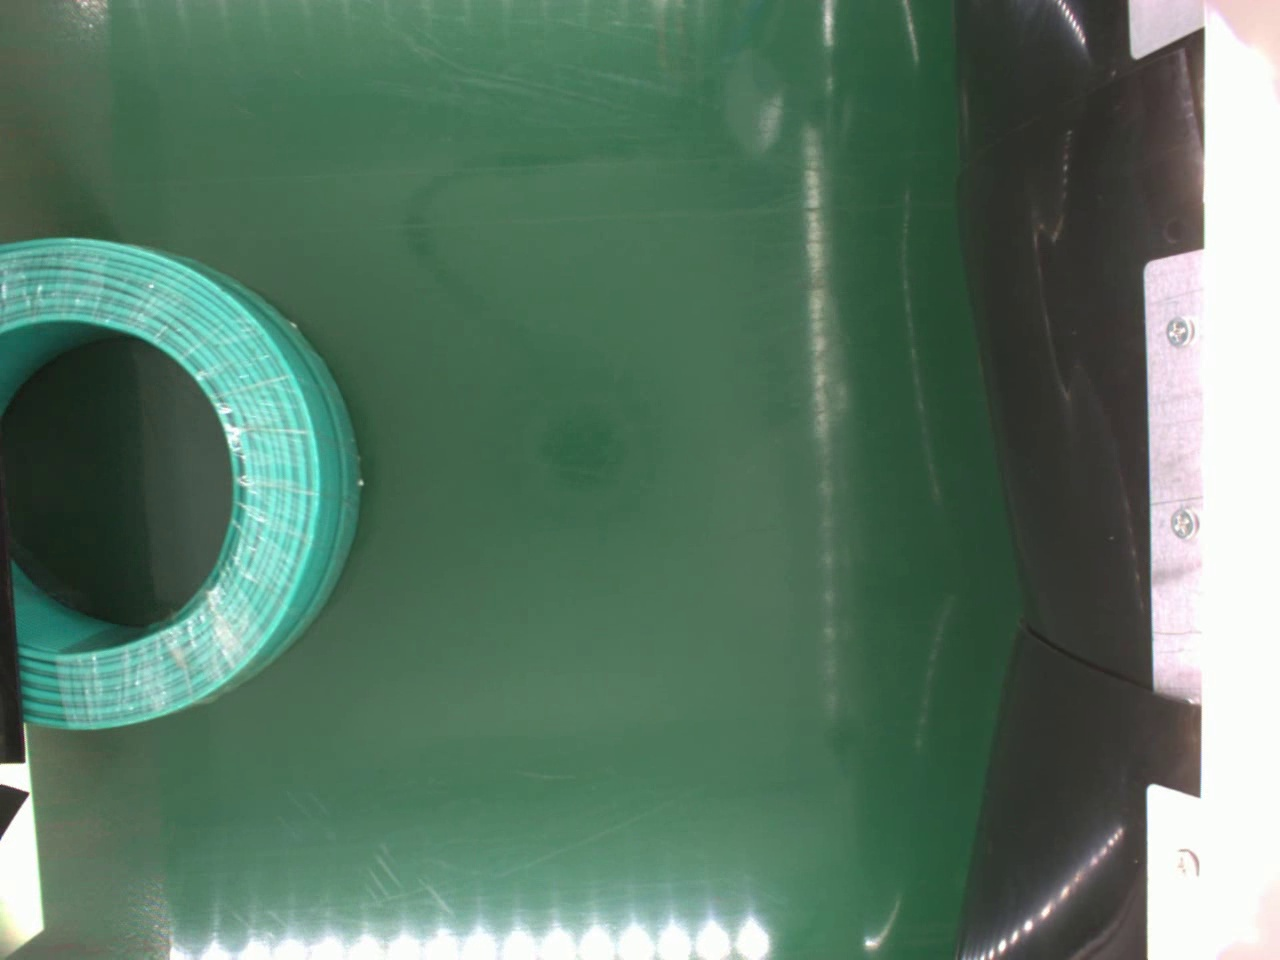green: (0, 235, 365, 734)
